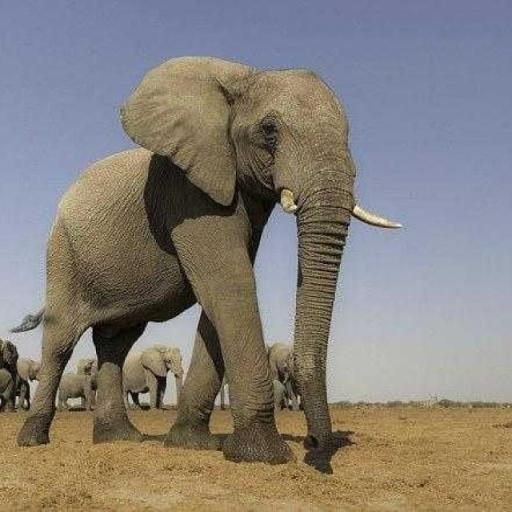Elephant: (9, 54, 402, 474)
